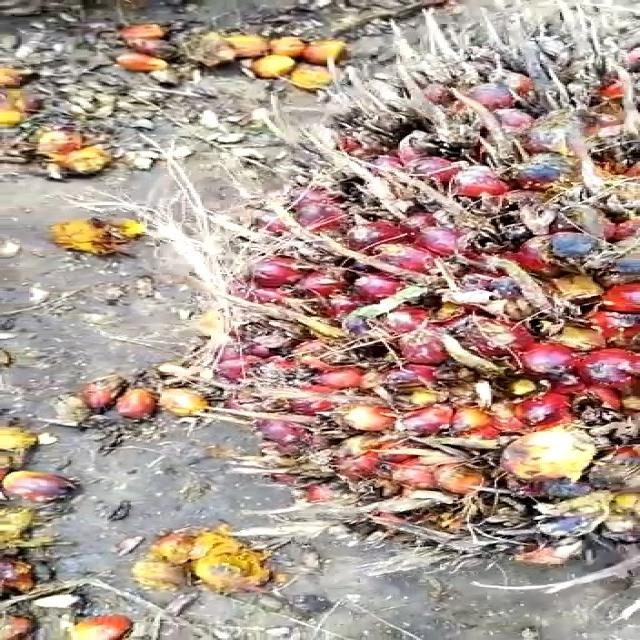palm oil: (194, 0, 640, 572)
